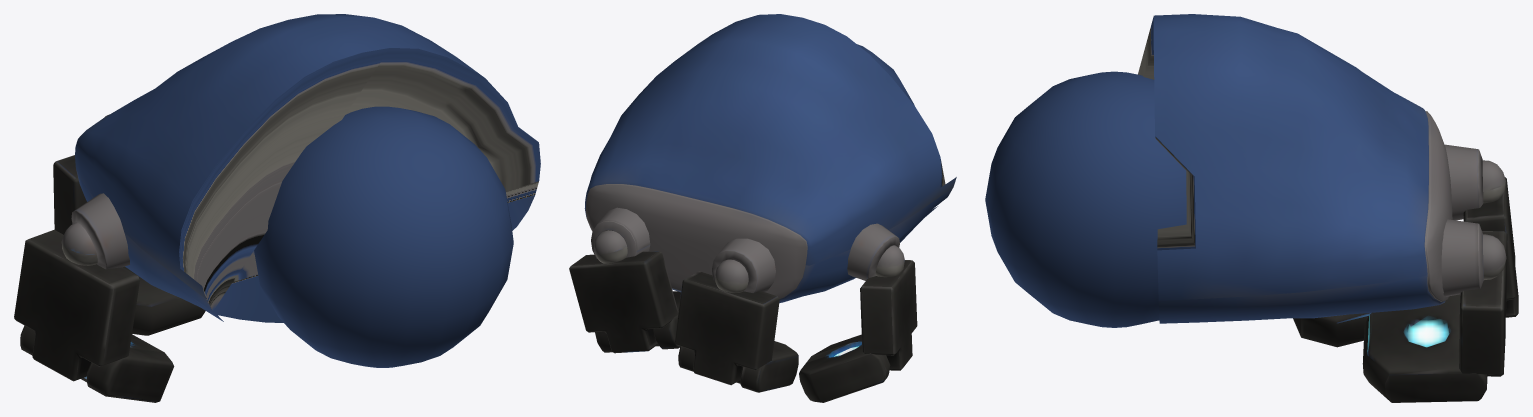
The model's file is quest-blue-hand-right.glb.
The picture shows the model from 3 angles, left to right: view 1: azimuth 30°, elevation 25°; view 2: azimuth 150°, elevation 25°; view 3: azimuth 270°, elevation 25°; orthographic projection. The views are drawn at different scales.
Visible parts, largest first — view 1: quest-blue-hand-right; view 2: quest-blue-hand-right; view 3: quest-blue-hand-right.
Part boxes in pixels (x1=…): quest-blue-hand-right: x1=14, y1=14, x2=540, y2=402; quest-blue-hand-right: x1=569, y1=14, x2=956, y2=402; quest-blue-hand-right: x1=985, y1=14, x2=1518, y2=402.
Size of the model in its own units: 0.2 by 0.1753 by 0.2272.
3 materials, 3 textured.
